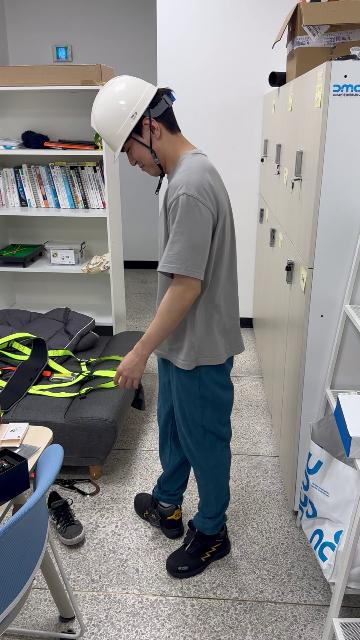helmet_worn: (91, 75, 158, 160)
shoe_not_worn: (46, 491, 85, 546)
shoe_worn: (165, 520, 230, 578), (134, 492, 184, 538)
vest_not_worn: (147, 173, 244, 368)
